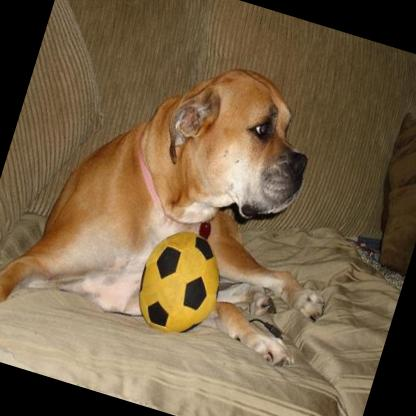boxer: (0, 10, 383, 416)
